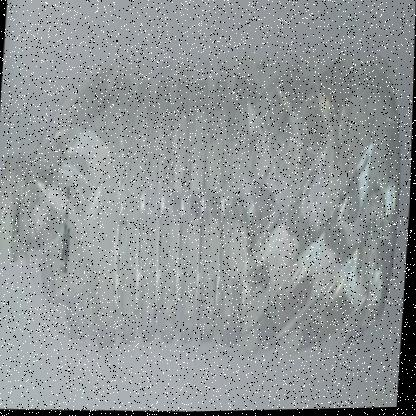bottle cap: (1, 47, 129, 381)
